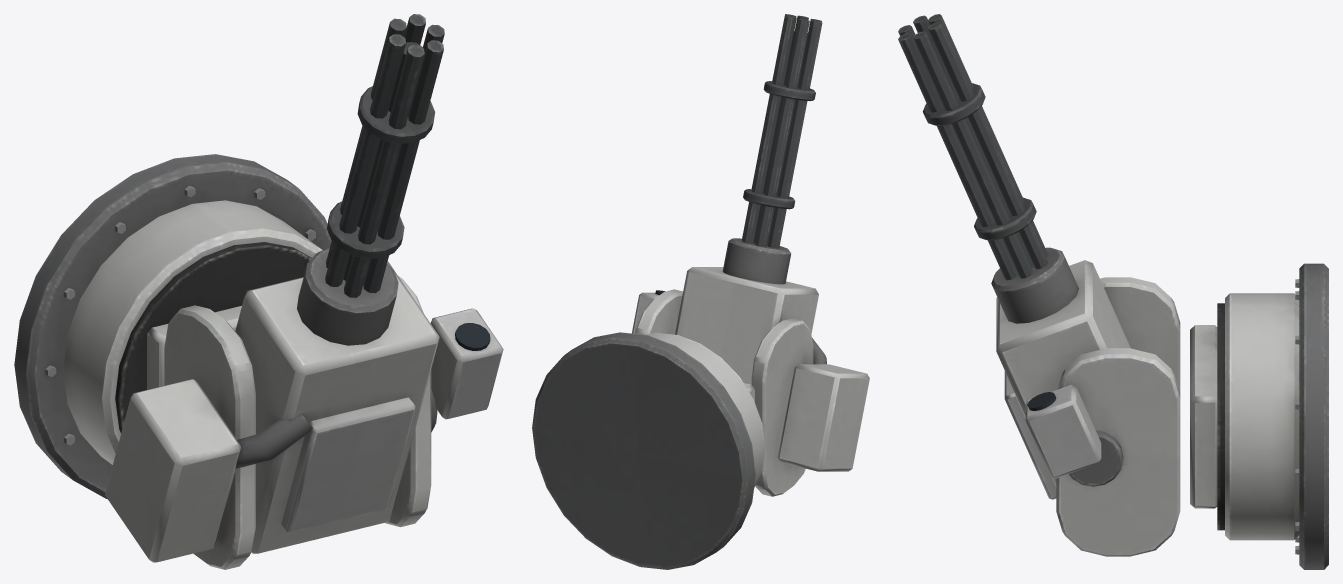
The model's file is pdc.glb.
3 views of the same model, side by side, from view 1: azimuth 30°, elevation 25°; view 2: azimuth 150°, elevation 25°; view 3: azimuth 270°, elevation 25° (orthographic). The views are drawn at different scales.
Visible parts, largest first — view 1: pdc; view 2: pdc; view 3: pdc.
Part boxes in pixels (bbox=[...]): pdc: bbox=[14, 14, 503, 569]; pdc: bbox=[532, 14, 869, 569]; pdc: bbox=[898, 14, 1328, 569].
Bounding box in the file's own units: 1.28 × 2.39 × 1.74.
1 material, 1 textured.
